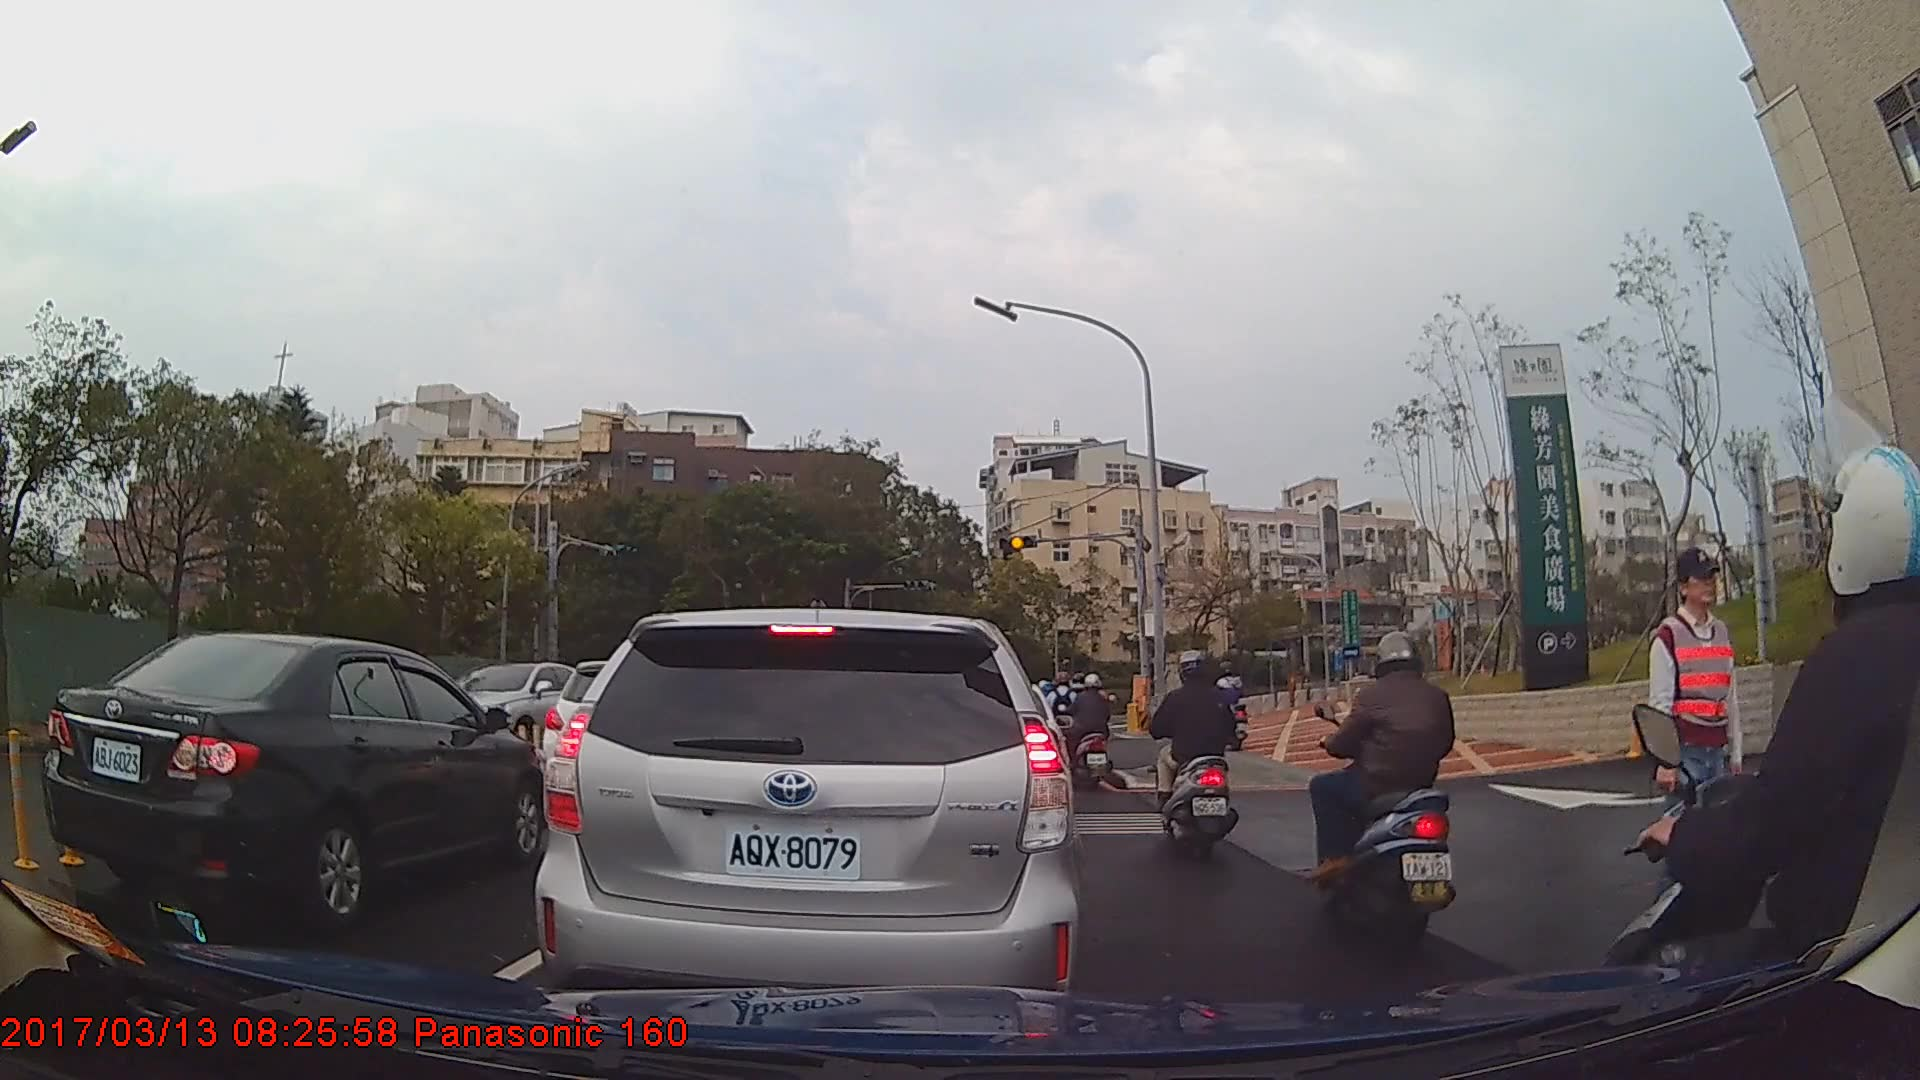pedestrian: (1641, 549, 1753, 959)
rider: (1607, 439, 1920, 1080), (1310, 628, 1473, 951), (1148, 645, 1243, 869), (1072, 672, 1117, 795), (1211, 662, 1247, 754)
vehicle: (534, 606, 1079, 1019), (42, 630, 552, 928), (446, 661, 583, 755)
